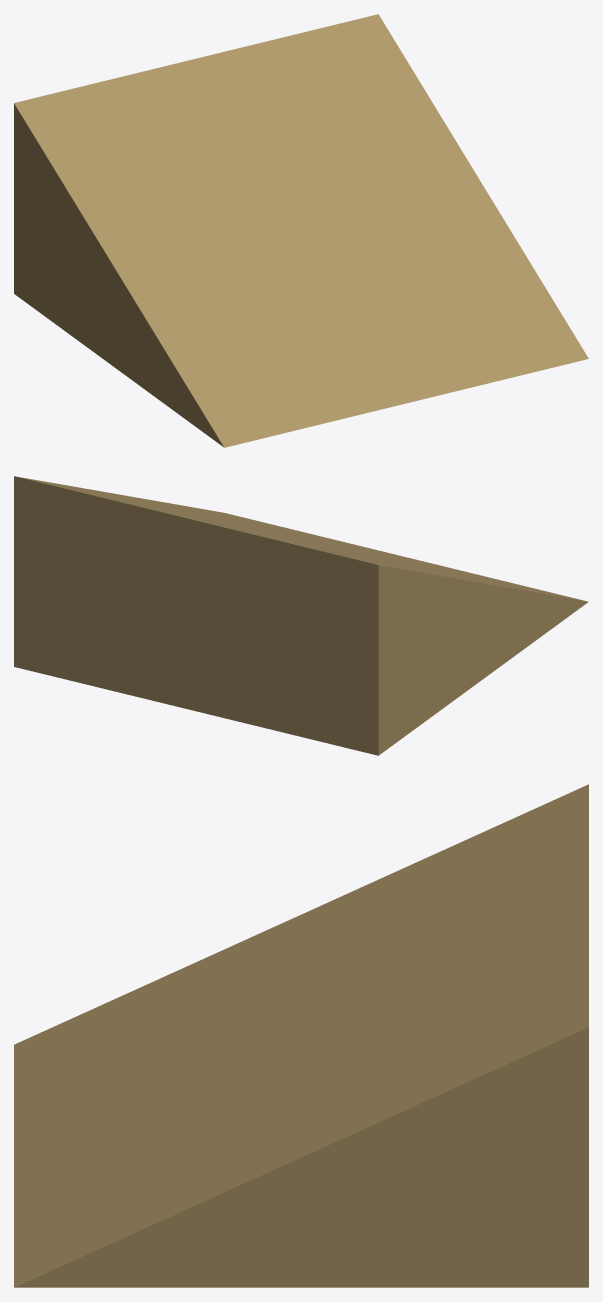
File: terrain-sand-outer-corner.lod0.glb
3 views of the same model, one above another, from view 1: azimuth 30°, elevation 25°; view 2: azimuth 150°, elevation 25°; view 3: azimuth 270°, elevation 25° (orthographic). The views are drawn at different scales.
Visible parts, largest first — view 1: terrain-sand-outer-corner__body; view 2: terrain-sand-outer-corner__body; view 3: terrain-sand-outer-corner__body.
Boxes of the visible parts, x1,y1,x2,y2 form: terrain-sand-outer-corner__body: (14,14,588,447); terrain-sand-outer-corner__body: (14,476,588,755); terrain-sand-outer-corner__body: (14,784,588,1287).
Size of the model in its own units: 2 by 1 by 2.
